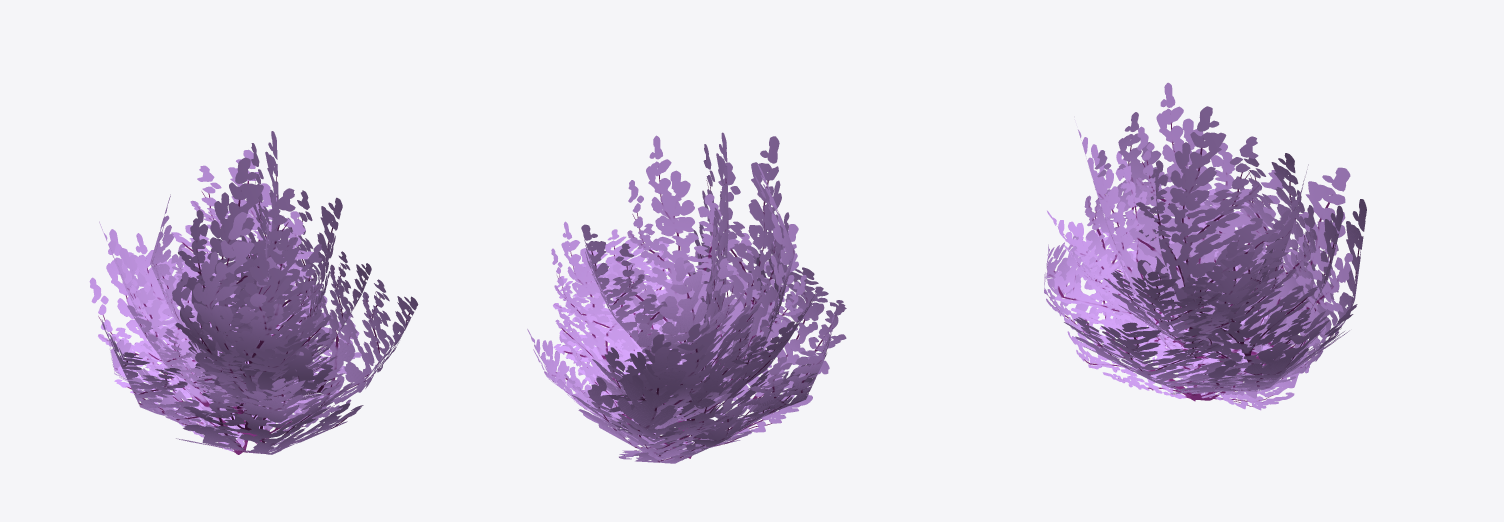
3 views of the same model, side by side, from view 1: azimuth 30°, elevation 25°; view 2: azimuth 150°, elevation 25°; view 3: azimuth 270°, elevation 25° (orthographic).
Parts seen in each view (by area): view 1: bush2; view 2: bush2; view 3: bush2.
Boxes of the visible parts, x1=… form: bush2: x1=89, y1=131, x2=418, y2=454; bush2: x1=527, y1=132, x2=846, y2=463; bush2: x1=1044, y1=82, x2=1366, y2=410.
Size of the model in its own units: 2.61 by 2.63 by 3.18.
1 material, 1 textured.
